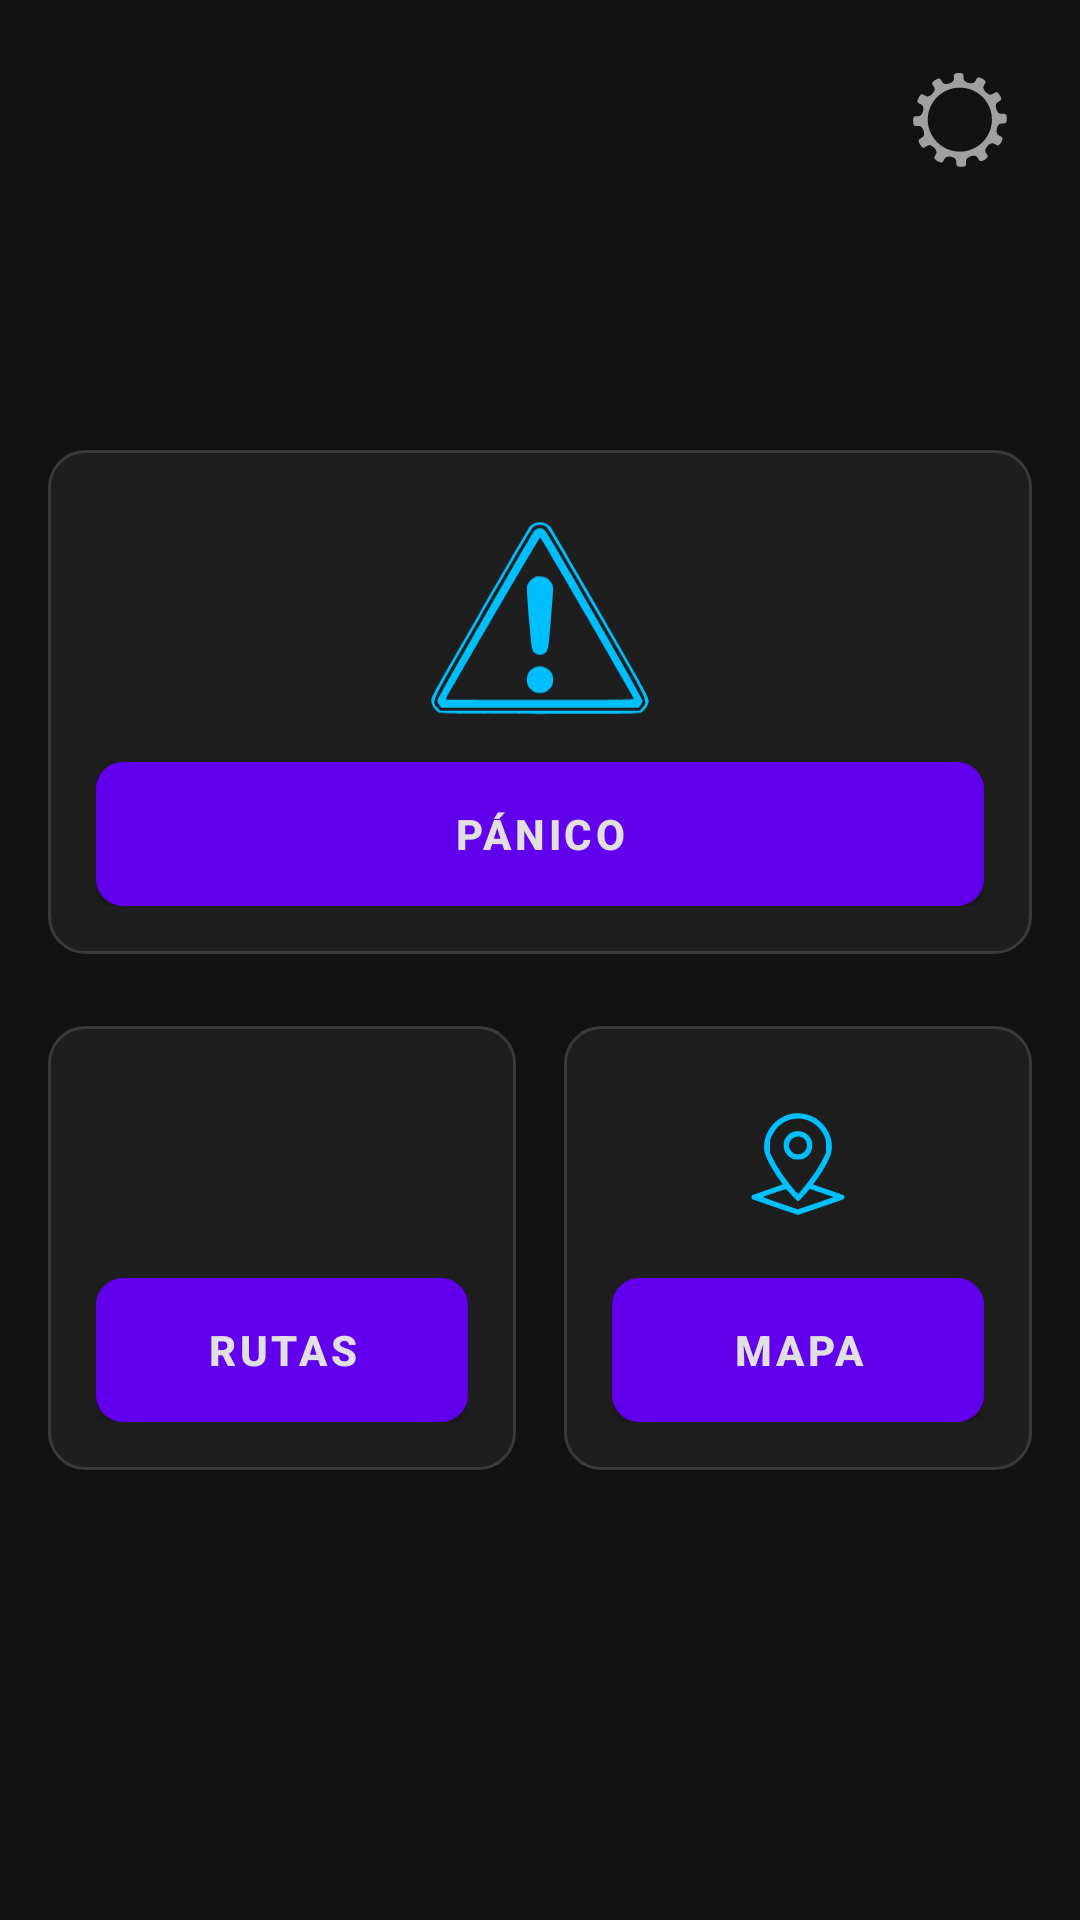

Icons on this 1080px x 1920px Android screen, each with the point to tap as point (x, y):
Ajustes: point (960, 120)
map: point (798, 1164)
panic: point (540, 618)
